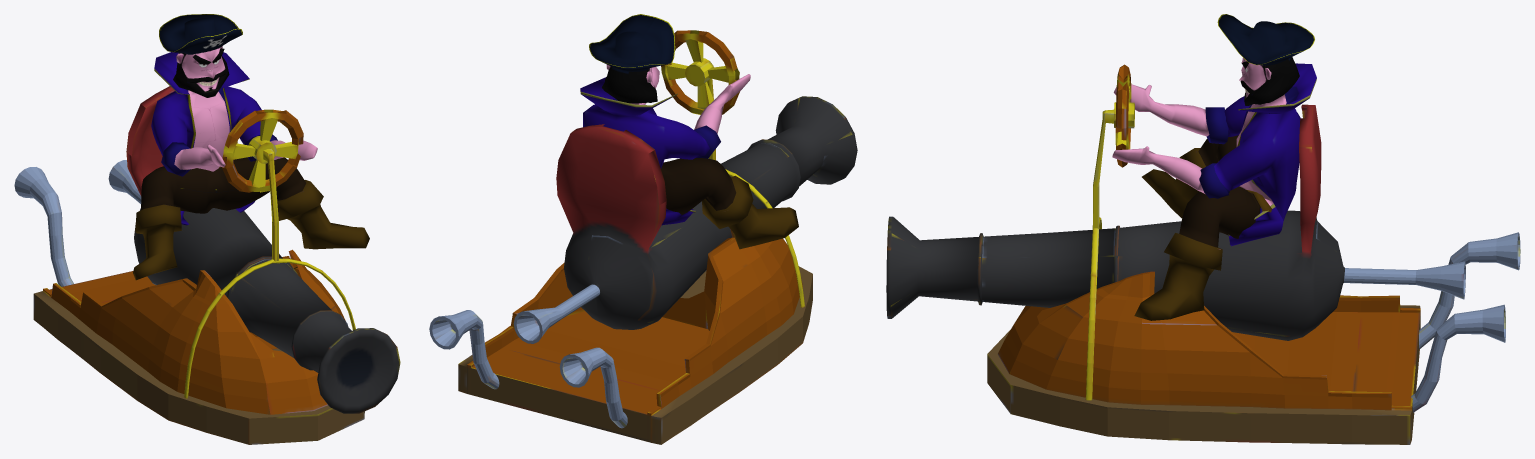
Rendered from pirataGiroDER_000287.obj.
3 views of the same model, side by side, from view 1: azimuth 30°, elevation 25°; view 2: azimuth 150°, elevation 25°; view 3: azimuth 270°, elevation 25° (orthographic). The views are drawn at different scales.
Parts seen in each view (by area): view 1: carro_pirata, Pirata_PirataH; view 2: carro_pirata, Pirata_PirataH; view 3: carro_pirata, Pirata_PirataH.
Part boxes in pixels (x1,y1,x2,y2): carro_pirata: (14, 86, 400, 444); Pirata_PirataH: (133, 14, 369, 280); carro_pirata: (429, 30, 857, 444); Pirata_PirataH: (580, 14, 798, 249); carro_pirata: (886, 64, 1520, 444); Pirata_PirataH: (1112, 14, 1316, 320).
Size of the model in its own units: 5.65 by 7.7 by 12.1.
2 materials, 2 textured.
